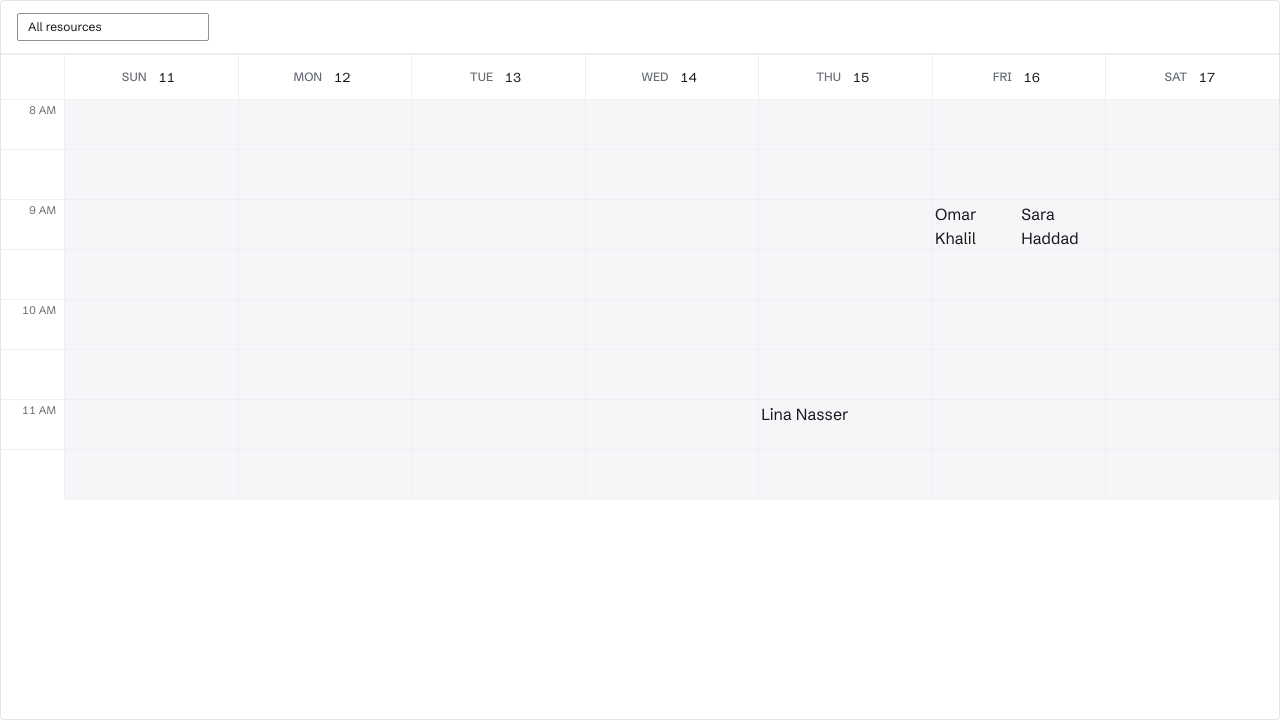
Test: CalendarGrid resources › filters the week to one resource with the header Select
Expected: the button "Lina Nasser" is shown, [759,400,932,450]
Click the dropdown labelled "resource" at (113, 27), box [17,13,209,41]
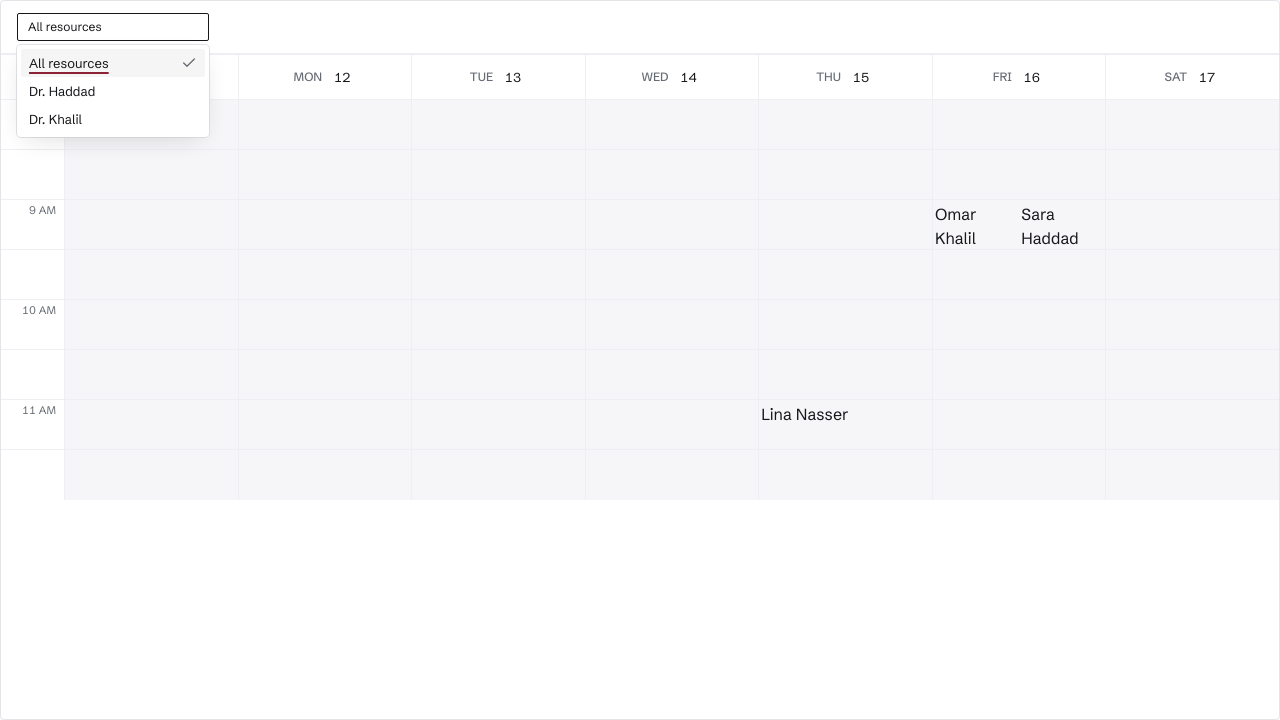
Click the option "Dr. Haddad" at (62, 91), box [29,83,95,99]
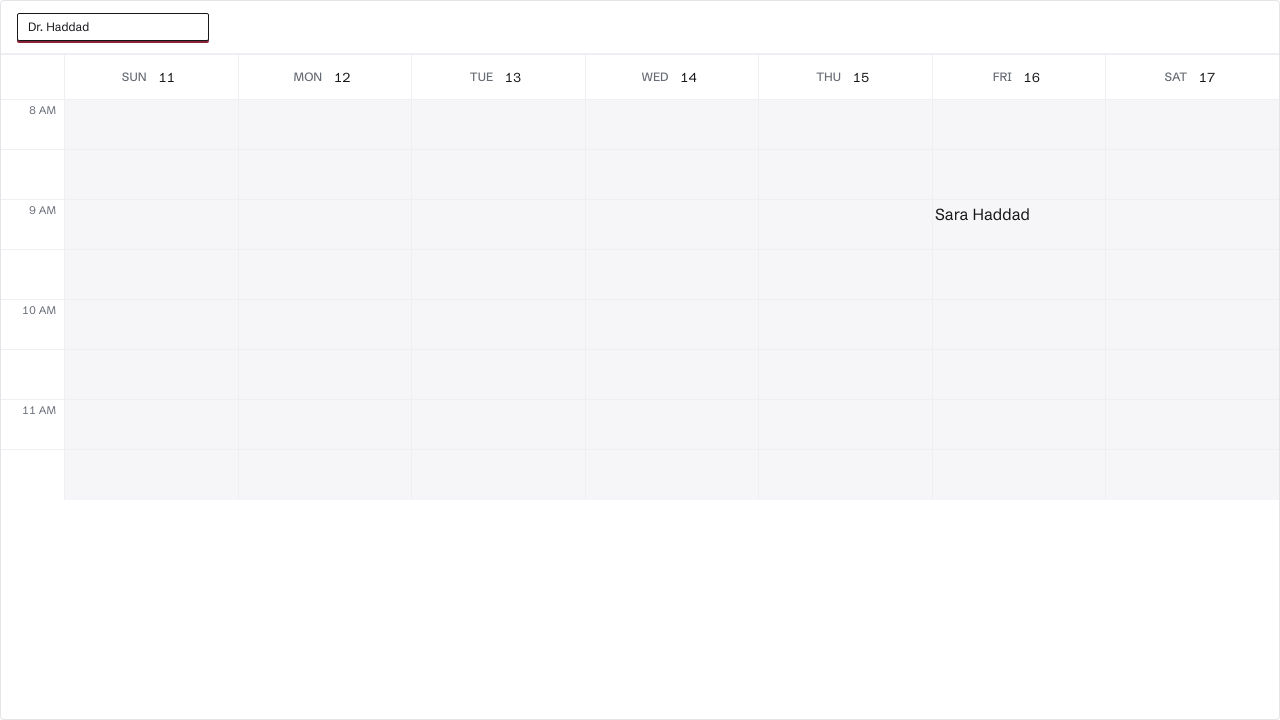
Expected: the button "Sara Haddad" is shown, [933,200,1106,250]
Result: the button "Lina Nasser" is gone
